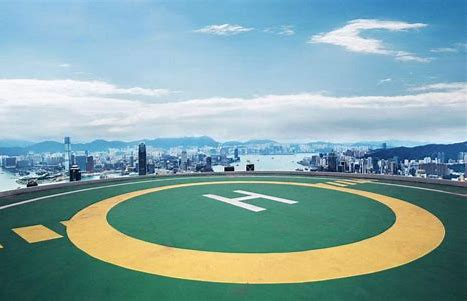H: (203, 190, 300, 213)
